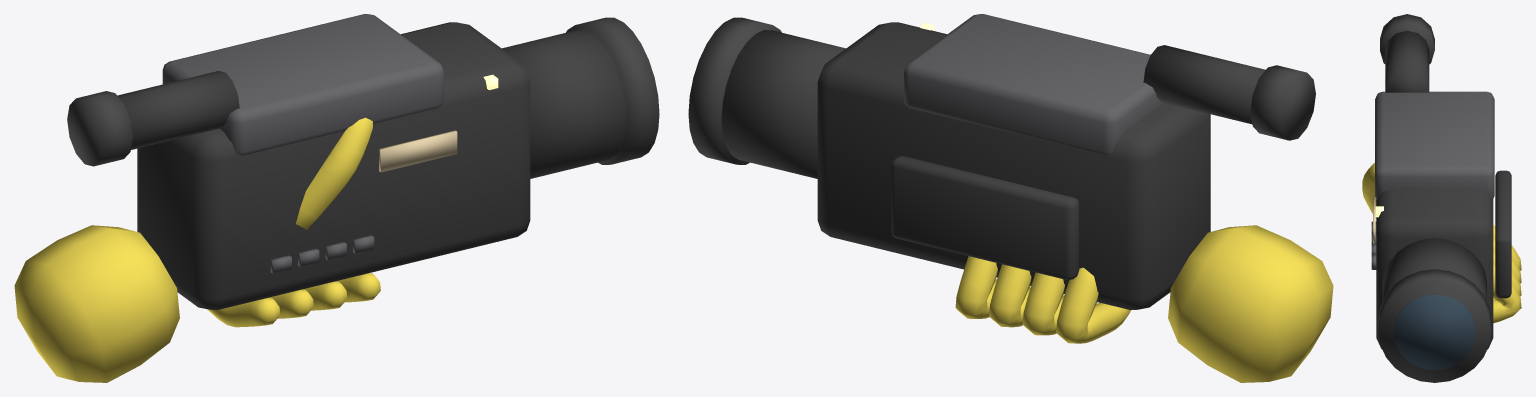
File: SM_Camcorder_FP.fbx
3 renders of one model, left to right at view 1: azimuth 30°, elevation 25°; view 2: azimuth 150°, elevation 25°; view 3: azimuth 270°, elevation 25°, orthographic. The views are drawn at different scales.
Visible parts, largest first — view 1: SM_Camcorder_FP; view 2: SM_Camcorder_FP; view 3: SM_Camcorder_FP.
Boxes of the visible parts, x1,y1,x2,y2 form: SM_Camcorder_FP: (14, 14, 659, 382); SM_Camcorder_FP: (688, 14, 1333, 382); SM_Camcorder_FP: (1362, 14, 1521, 382).
Bounding box in the file's own units: 39.21 × 18.59 × 11.58.
